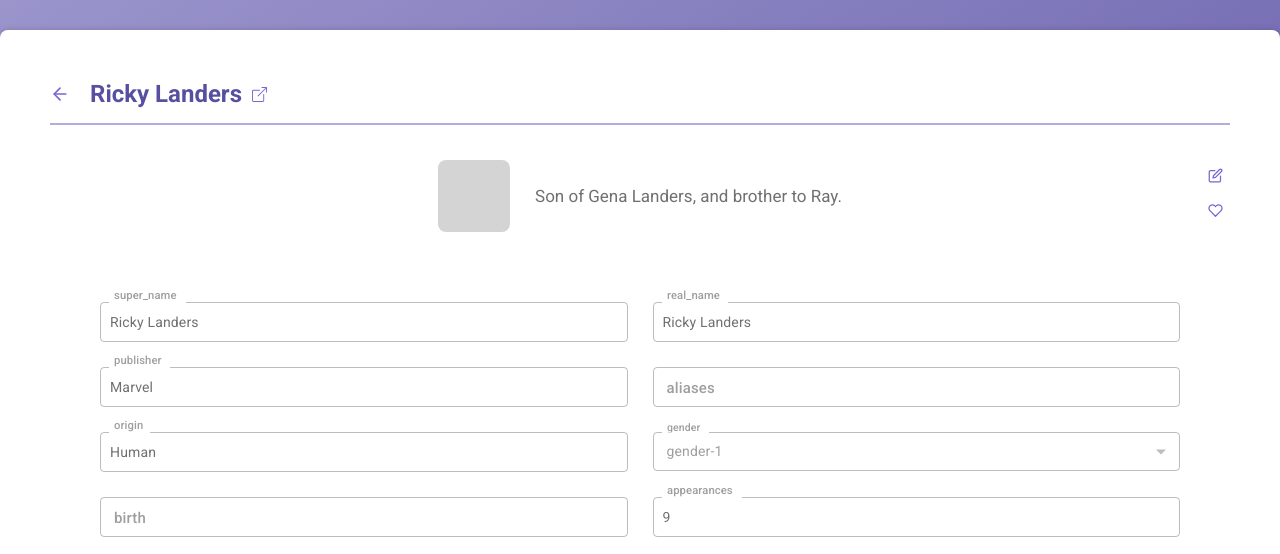
Test: CharacterInfo › should be able to click on the favorite button
Click the button with test id "favorite-button": click(1215, 210) [1208, 202, 1222, 218]
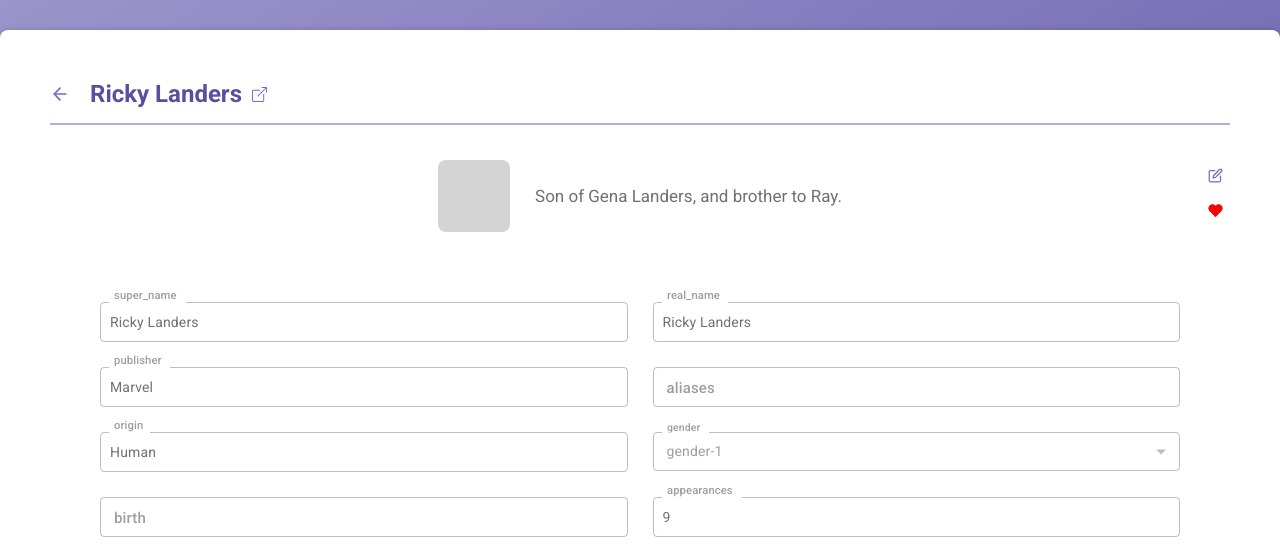
Expected: the icon with test id "heart-svg-true" is shown, [1208, 202, 1222, 218]
